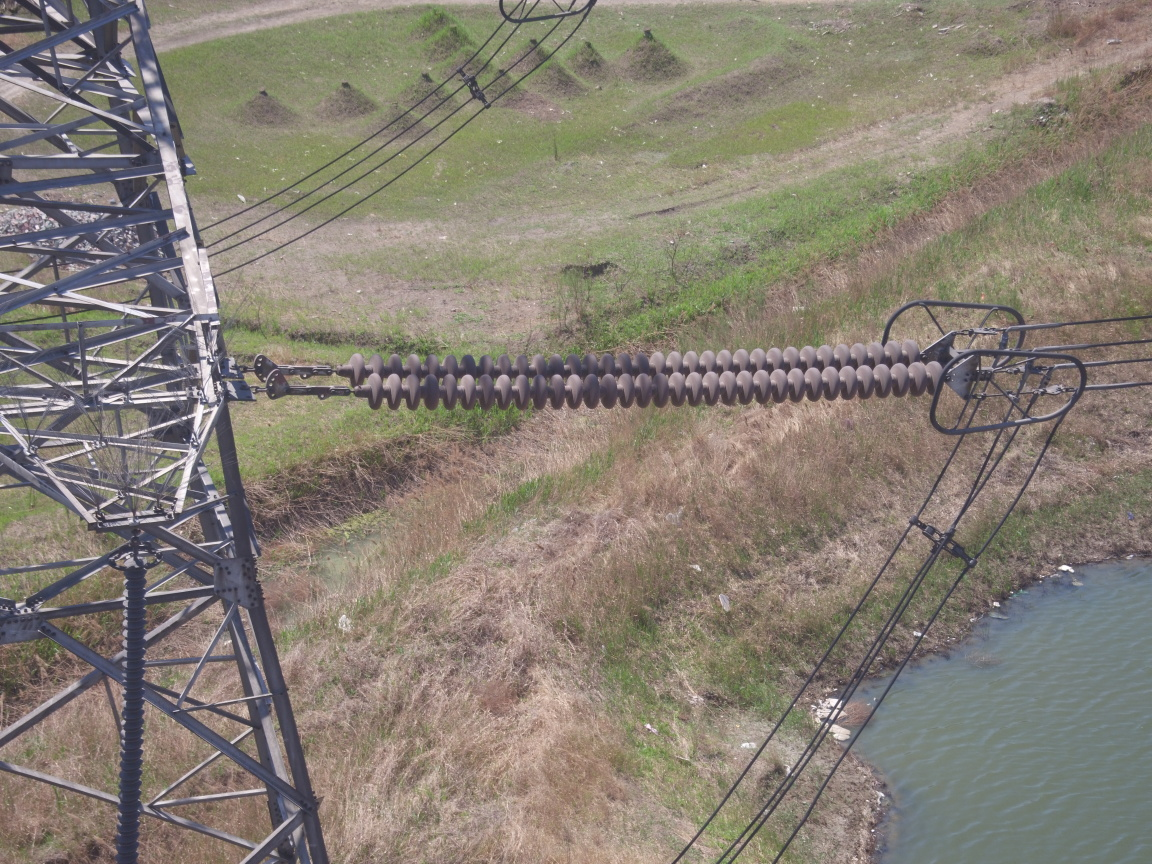insulator: (304, 338, 965, 413)
